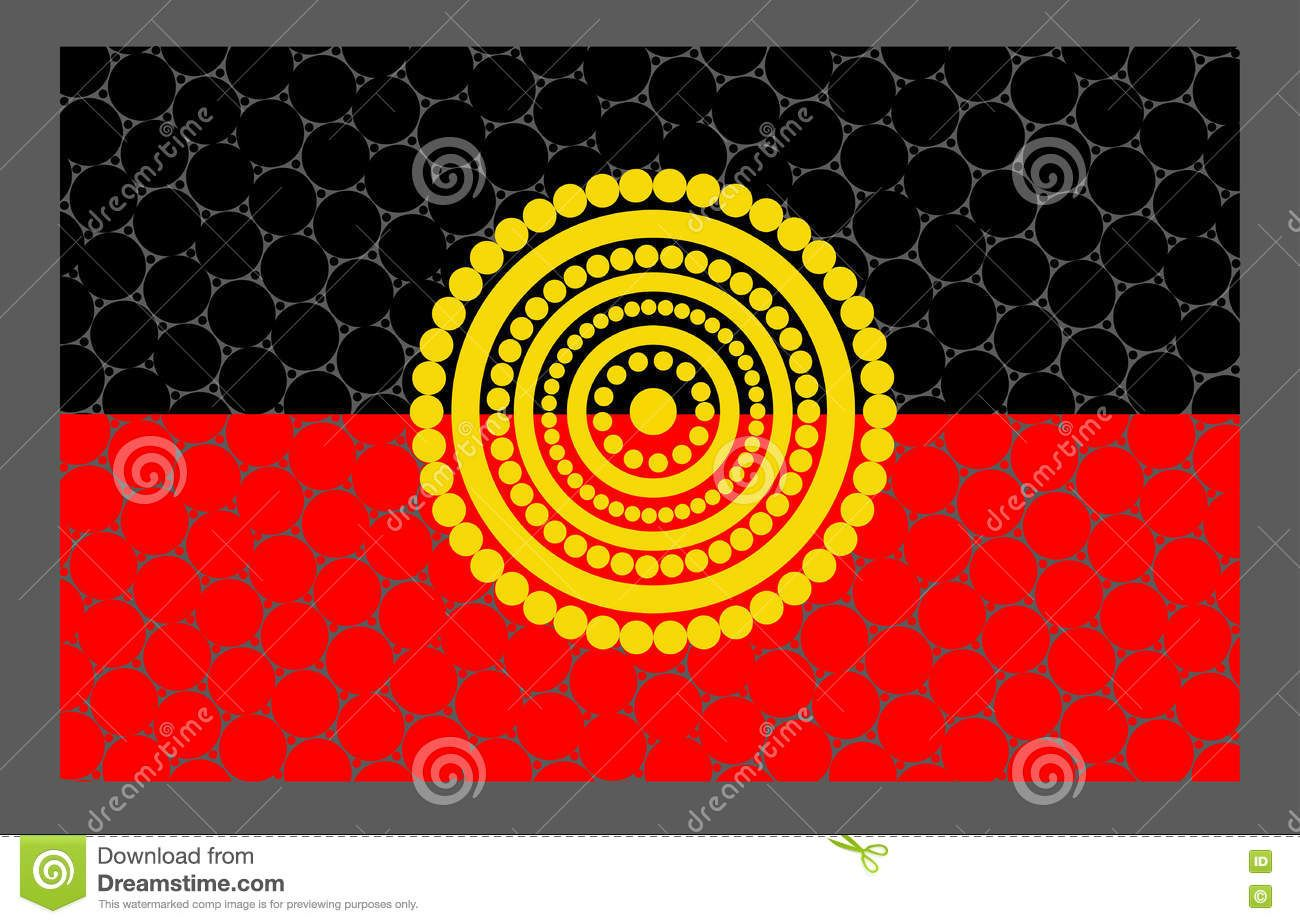aboriginal_flag: (58, 44, 1244, 785)
